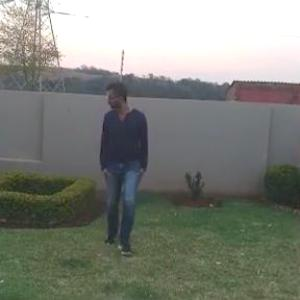follow: (98, 79, 149, 257)
